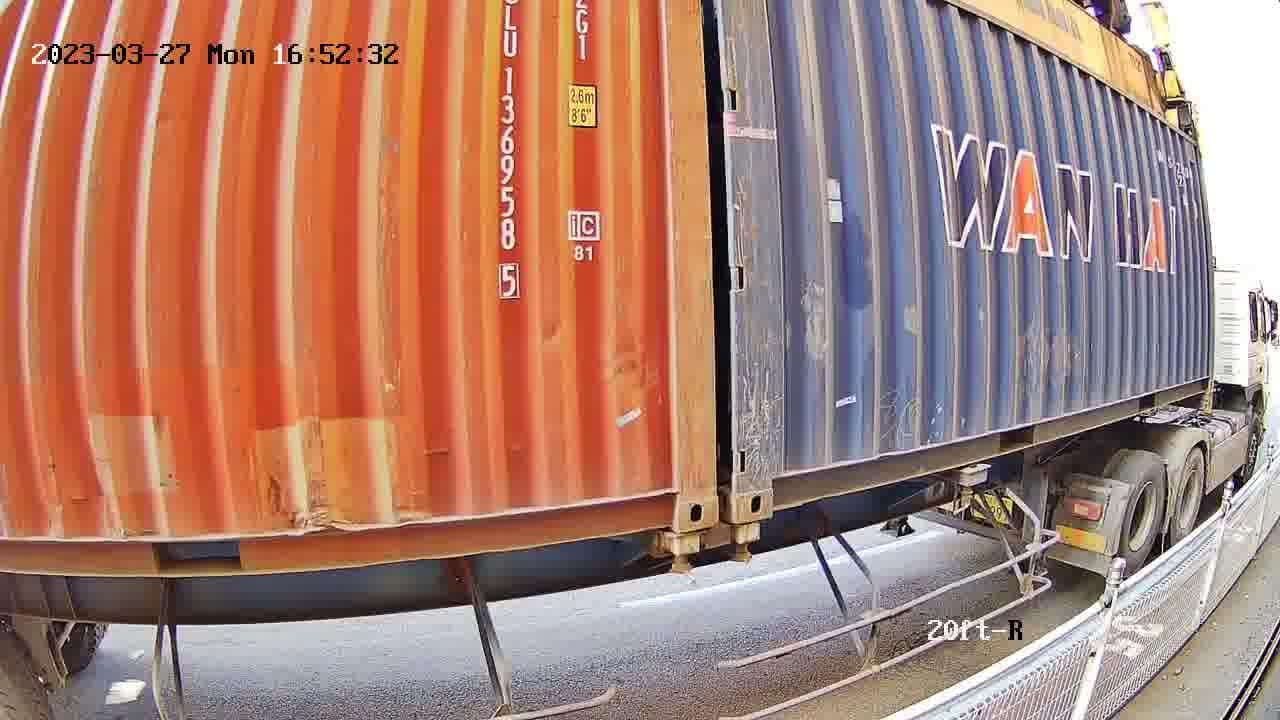Cone: (666, 530, 708, 583), (731, 522, 762, 567)
Hole_L: (632, 449, 718, 543), (733, 452, 795, 524)
Tire: (1114, 458, 1166, 572), (1171, 447, 1206, 540)
